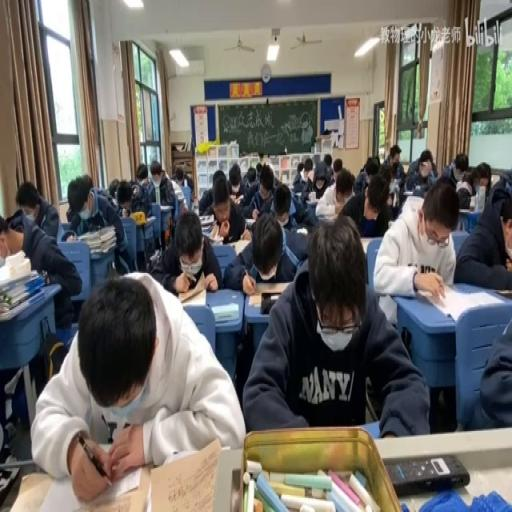calculator: (148, 436, 222, 510), (418, 280, 503, 324), (0, 289, 43, 320), (246, 282, 292, 308), (0, 266, 39, 294), (178, 286, 206, 307), (210, 302, 238, 322), (229, 236, 250, 255), (359, 236, 376, 256), (148, 249, 160, 266), (198, 213, 212, 225), (208, 233, 222, 245), (230, 193, 244, 205), (200, 222, 213, 233), (305, 196, 319, 205), (178, 199, 187, 213), (243, 216, 256, 225), (160, 203, 172, 212), (460, 205, 474, 212), (295, 228, 307, 236), (192, 199, 198, 213), (403, 189, 414, 194)
paper: (32, 266, 243, 501), (244, 215, 426, 435), (453, 179, 512, 292), (65, 174, 128, 278), (150, 208, 221, 296), (338, 168, 391, 236), (11, 181, 59, 240), (268, 179, 309, 232), (117, 176, 151, 230), (145, 161, 176, 212), (404, 146, 438, 192), (234, 162, 260, 213), (442, 150, 468, 188), (0, 225, 24, 256), (474, 161, 491, 196), (492, 171, 512, 199), (376, 161, 392, 189), (323, 154, 335, 182), (366, 154, 380, 176), (5, 210, 21, 229), (262, 155, 275, 178), (134, 164, 148, 184), (211, 168, 225, 186), (108, 178, 120, 199), (184, 170, 194, 194), (173, 165, 184, 185), (228, 171, 240, 189), (59, 228, 76, 240), (259, 181, 272, 196), (388, 144, 400, 160), (333, 158, 342, 176), (390, 162, 398, 176), (255, 162, 262, 176), (304, 164, 311, 176), (297, 162, 303, 174), (420, 156, 426, 168), (160, 169, 166, 179)
person: (384, 452, 470, 494), (0, 462, 21, 509), (493, 286, 512, 297)
